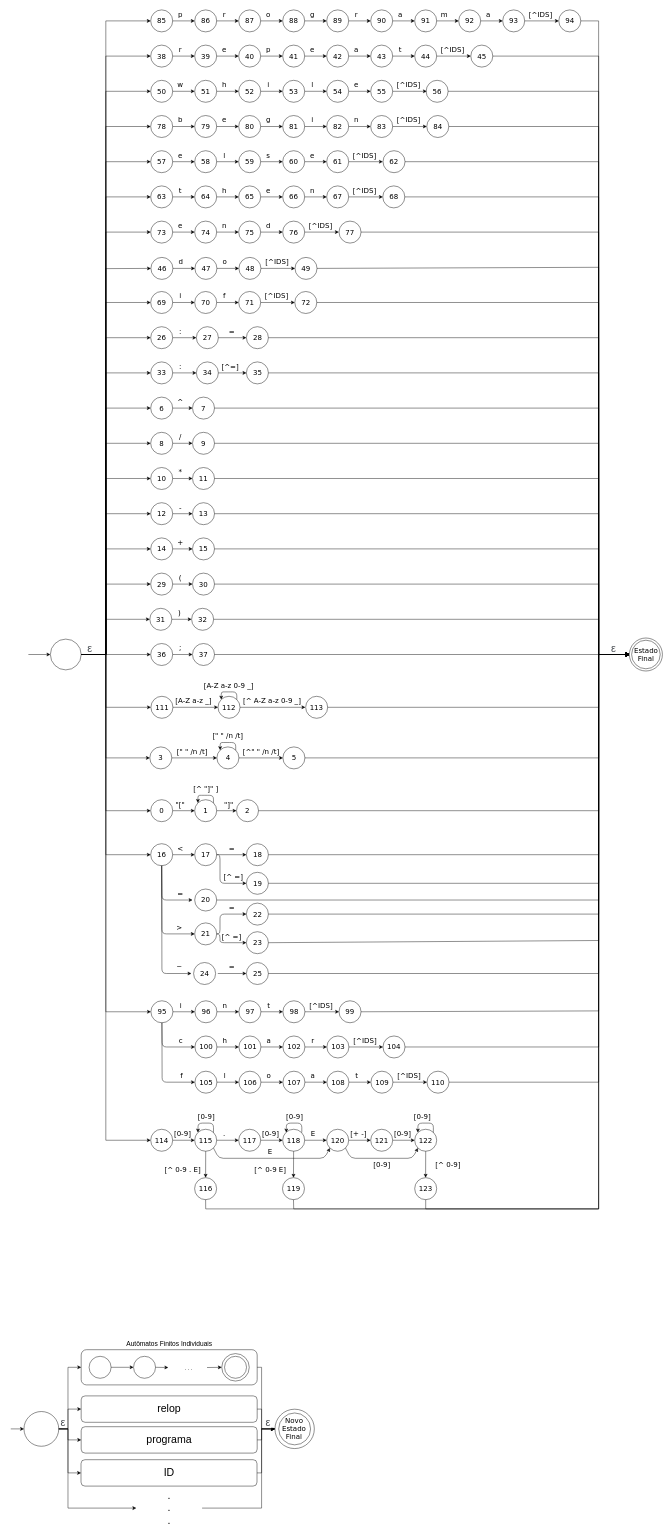
The diagram is 670 pixels wide and 1534 high, and some of its shapes have lost their labels. Each missing label, with the box of its shape:
Estado Inicial: (50, 639, 81, 670)
Novo Estado Inicial: (24, 1411, 59, 1446)
